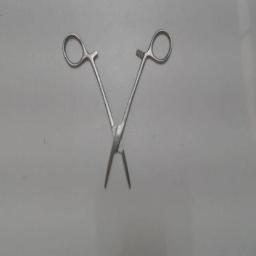Mayo Needle Holder: (60, 24, 176, 196)
